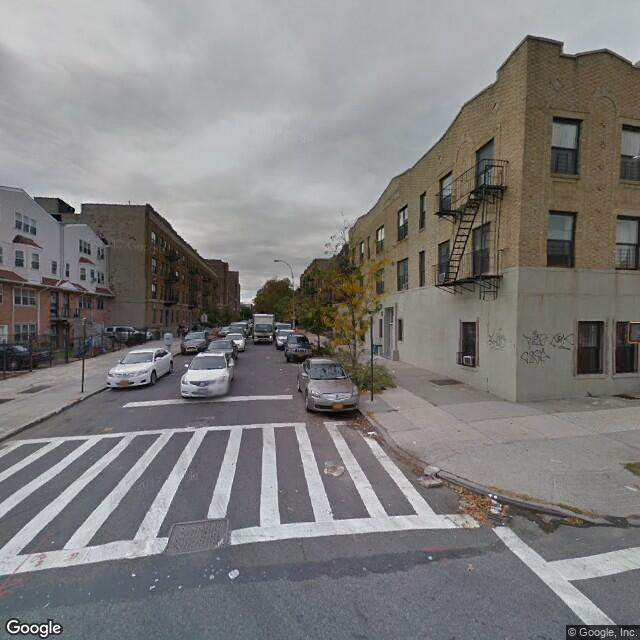litter: (418, 470, 445, 486), (490, 498, 505, 514), (463, 563, 481, 575), (228, 568, 244, 580), (364, 430, 377, 436), (365, 388, 373, 394)
